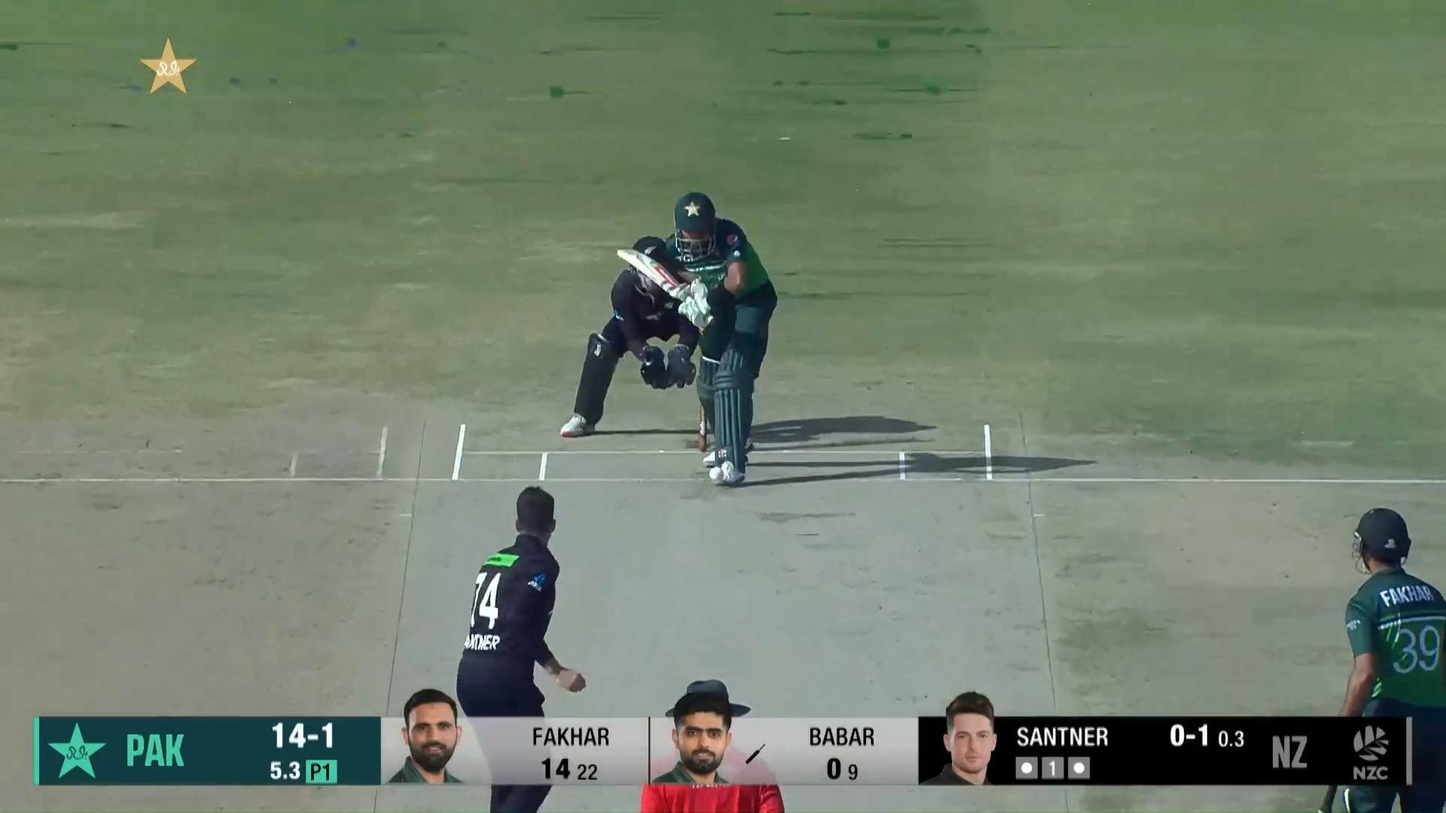BM 1: (615, 192, 774, 484)
BO: (454, 483, 591, 813)
